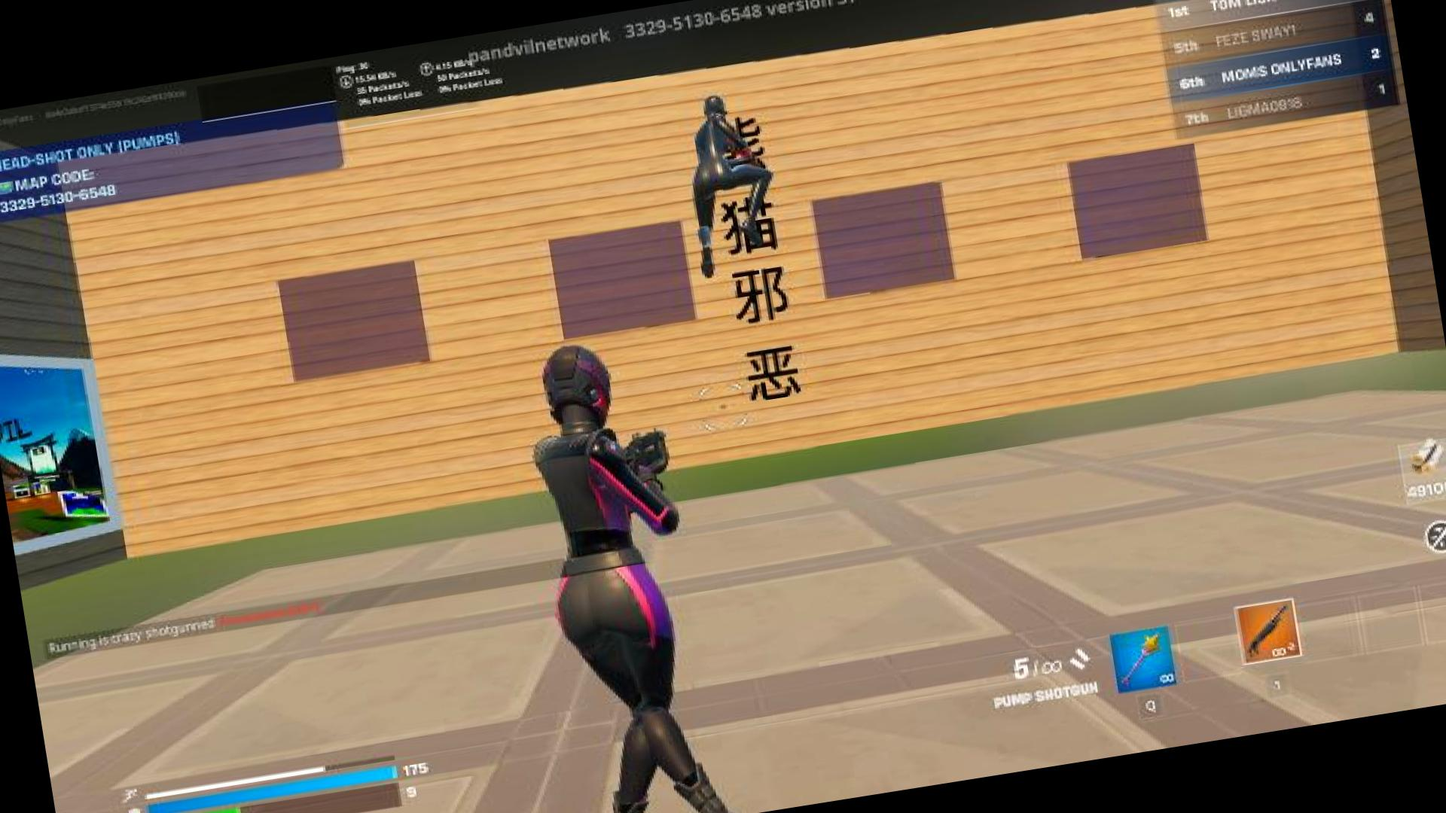player: (673, 82, 784, 277)
